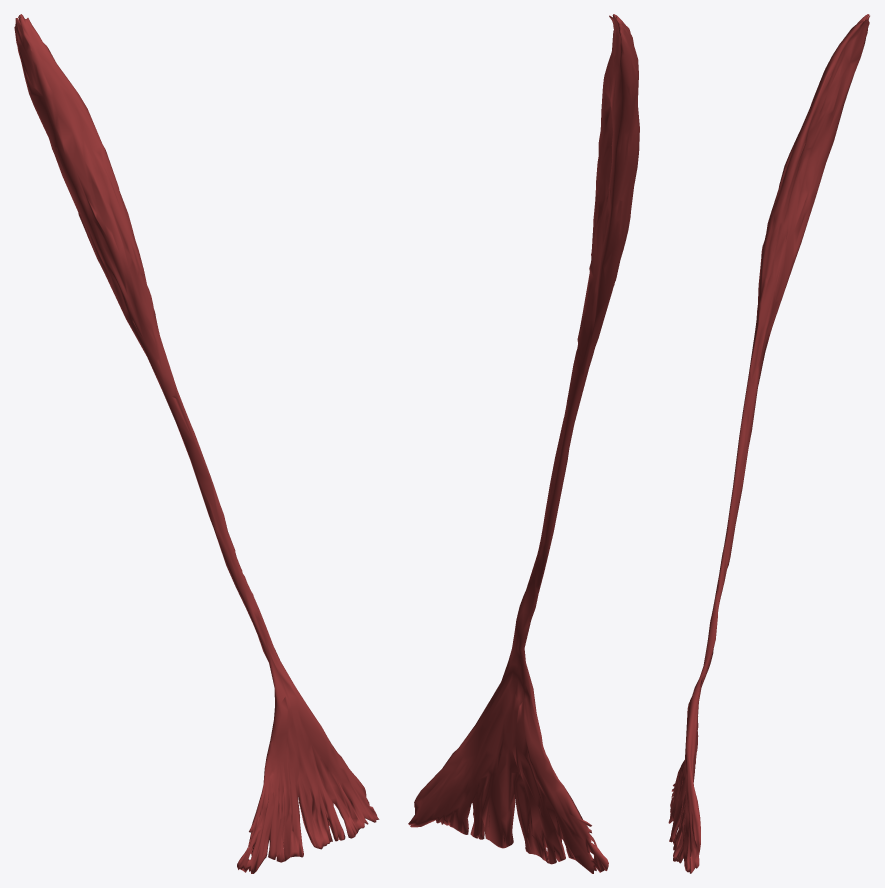
File: palmaris-longus-muscle-l.glb
The picture shows the model from 3 angles, left to right: view 1: azimuth 30°, elevation 25°; view 2: azimuth 150°, elevation 25°; view 3: azimuth 270°, elevation 25°; orthographic projection. The views are drawn at different scales.
Visible parts, largest first — view 1: Palmaris longus muscle.l; view 2: Palmaris longus muscle.l; view 3: Palmaris longus muscle.l.
Boxes of the visible parts, box(x1,y1,x2,y2) form: Palmaris longus muscle.l: box(14, 14, 379, 873); Palmaris longus muscle.l: box(408, 14, 639, 873); Palmaris longus muscle.l: box(668, 14, 869, 873).
Bounding box in the file's own units: 0.1152 × 0.3313 × 0.0806.
